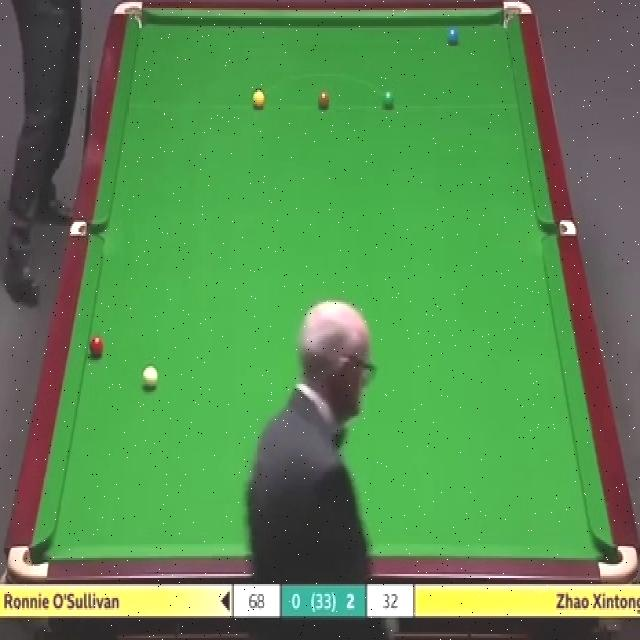blue-ball: (446, 27, 459, 44)
brown-ball: (316, 88, 331, 110)
green-ball: (380, 90, 395, 110)
red-ball: (88, 336, 105, 358)
white-ball: (142, 363, 158, 390)
yellow-ball: (252, 88, 265, 109)
